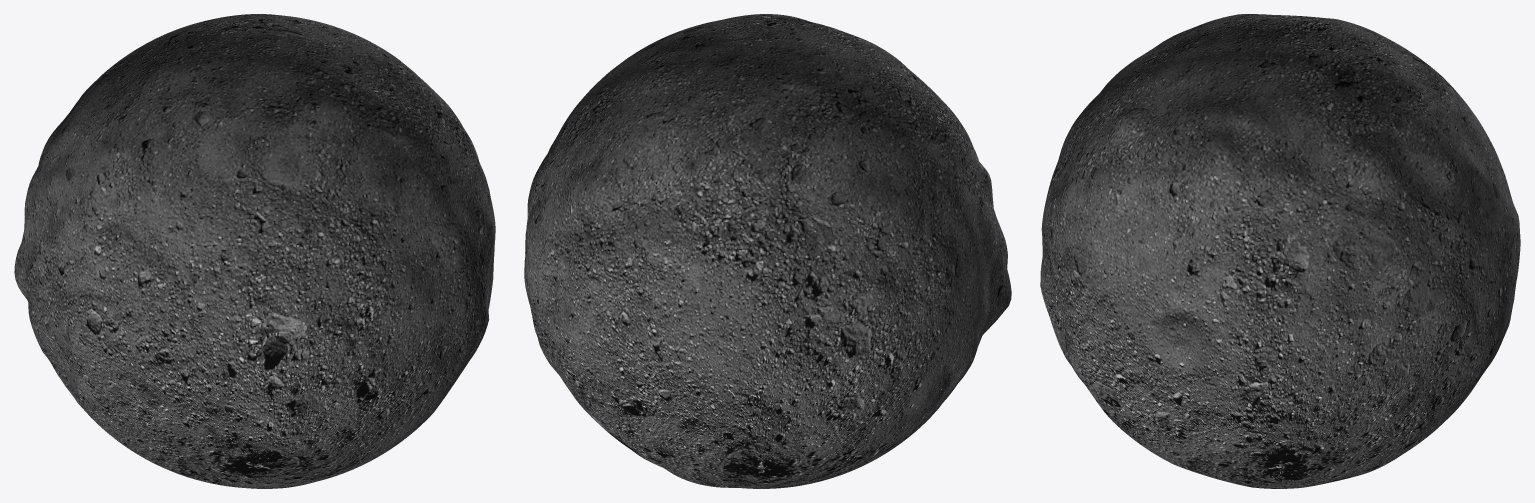
Rendered from nasa_bennu.glb.
3 views of the same model, side by side, from view 1: azimuth 30°, elevation 25°; view 2: azimuth 150°, elevation 25°; view 3: azimuth 270°, elevation 25° (orthographic).
Parts seen in each view (by area): view 1: Fake; view 2: Fake; view 3: Fake.
Part boxes in pixels (<box>): Fake: <box>14,14,495,488</box>; Fake: <box>524,14,1011,488</box>; Fake: <box>1040,14,1520,488</box>.
Bounding box in the file's own units: 1351 × 1302 × 1310.
Materials: 1 (1 with a texture image).
